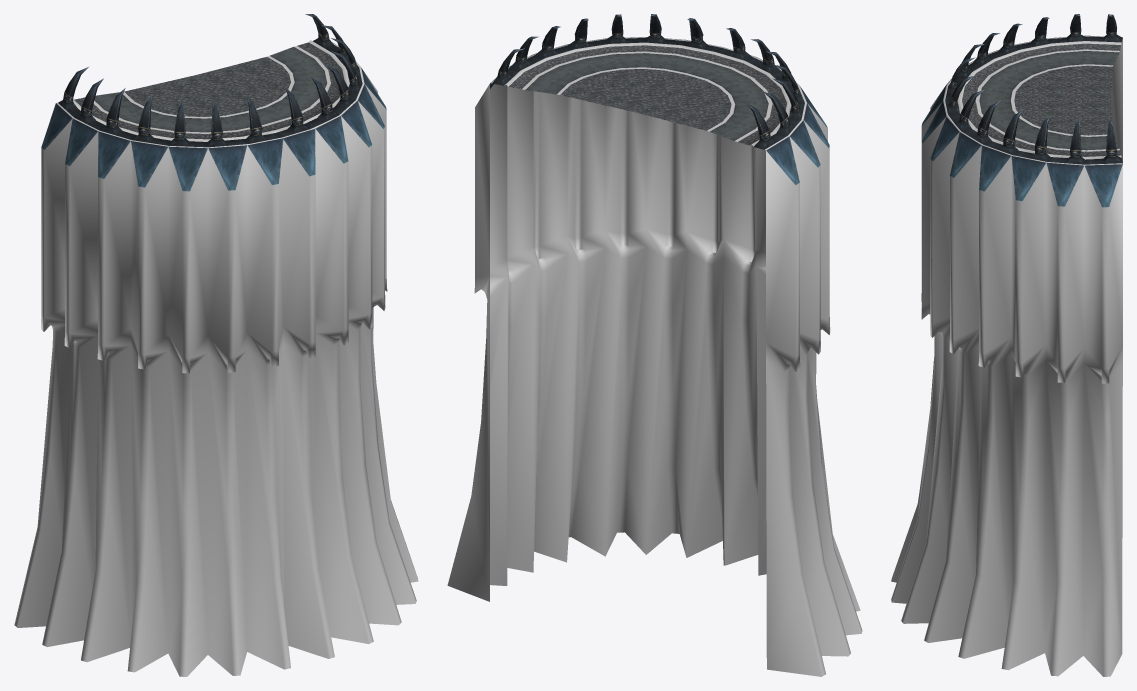
File: icecrown_wall_semicircle_piece_02_long_set0.obj
3 views of the same model, side by side, from view 1: azimuth 30°, elevation 25°; view 2: azimuth 150°, elevation 25°; view 3: azimuth 270°, elevation 25° (orthographic). The views are drawn at different scales.
Visible parts, largest first — view 1: wall0, wall4, wall2, wall6, wall1, wall7, wall5, wall3; view 2: wall0, wall4, wall6, wall1, wall7, wall2, wall5, wall3; view 3: wall0, wall4, wall6, wall1, wall2, wall7, wall5, wall3.
Boxes of the visible parts, box(x1,y1,x2,y2) form: wall0: box(17, 70, 418, 676); wall4: box(14, 127, 417, 676); wall2: box(41, 68, 386, 191); wall6: box(74, 42, 344, 139); wall1: box(58, 14, 362, 147); wall7: box(94, 47, 327, 132); wall5: box(56, 40, 364, 148); wall3: box(93, 46, 330, 133); wall0: box(447, 84, 861, 676); wall4: box(490, 91, 862, 676); wall6: box(508, 45, 786, 145); wall1: box(492, 14, 804, 149); wall7: box(525, 53, 768, 140); wall2: box(490, 83, 829, 184); wall5: box(490, 37, 806, 150); wall3: box(522, 51, 772, 141); wall0: box(891, 37, 1122, 676); wall4: box(891, 141, 1110, 676); wall6: box(962, 43, 1120, 156); wall1: box(945, 14, 1122, 164); wall2: box(921, 85, 1122, 207); wall7: box(979, 51, 1119, 150); wall5: box(943, 35, 1122, 165); wall3: box(975, 49, 1119, 151).
Size of the model in its own units: 202 by 285 by 114.
